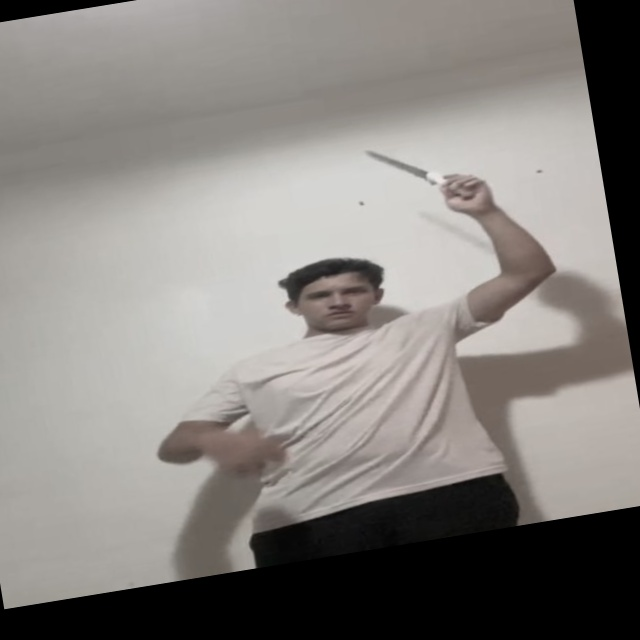Sharp-Object: (371, 143, 419, 182)
